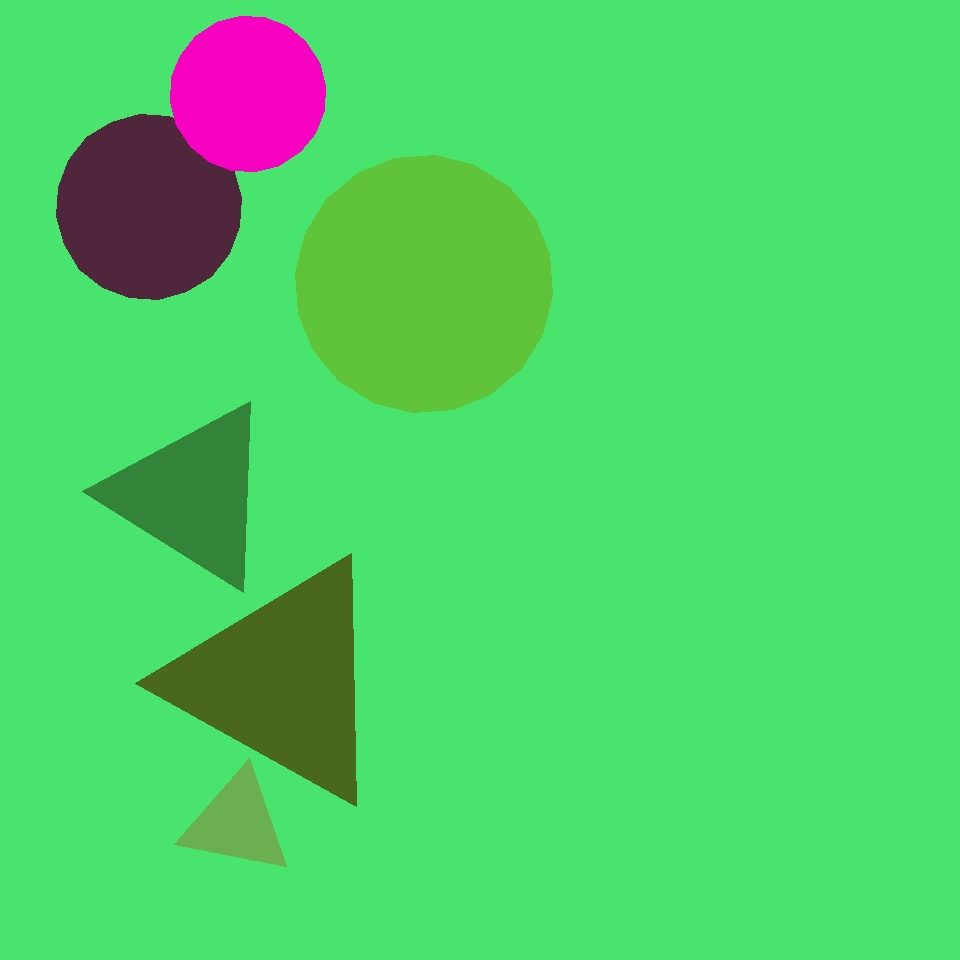circle: (292, 671, 538, 930), (81, 458, 319, 702), (170, 554, 392, 807), (108, 400, 276, 590), (181, 769, 293, 877)
triangle: (391, 272, 746, 627), (296, 156, 552, 412), (398, 629, 612, 842), (56, 114, 242, 300), (170, 16, 326, 172), (130, 149, 247, 266)
